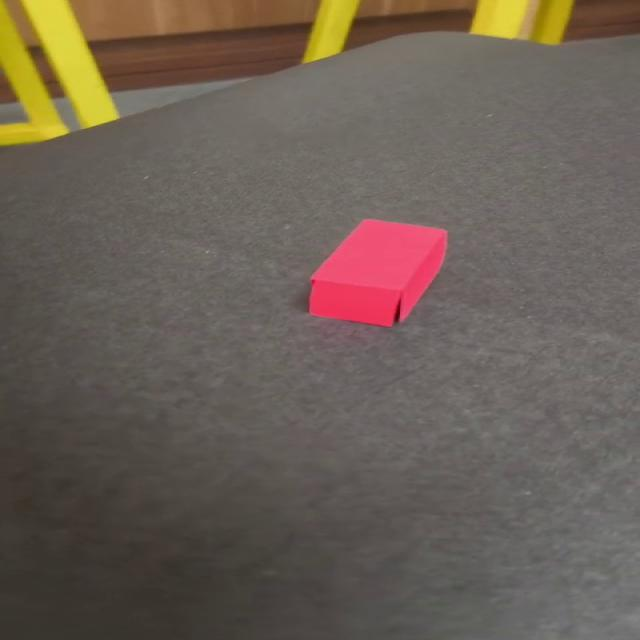red block: (307, 217, 448, 327)
